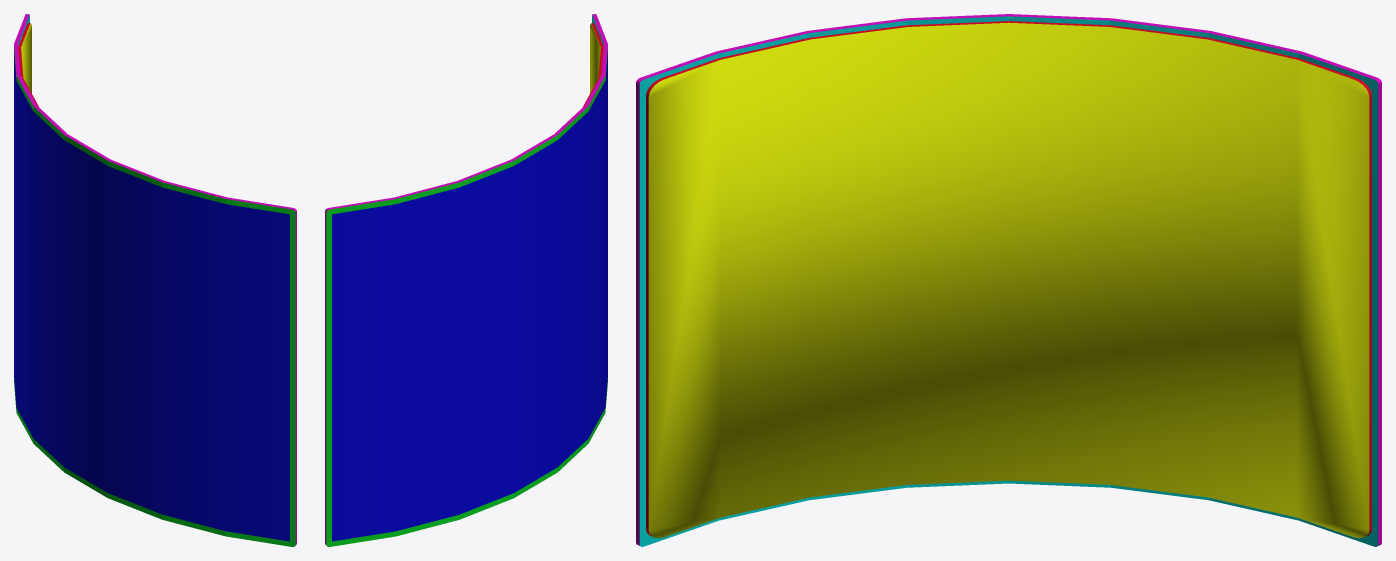
The picture shows the model from 3 angles, left to right: view 1: azimuth 30°, elevation 25°; view 2: azimuth 150°, elevation 25°; view 3: azimuth 270°, elevation 25°; orthographic projection. The views are drawn at different scales.
Visible parts, largest first — view 1: Cylinder; view 2: Cylinder; view 3: Cylinder.
Boxes of the visible parts, x1=… form: Cylinder: x1=14, y1=14, x2=296, y2=546; Cylinder: x1=325, y1=14, x2=607, y2=546; Cylinder: x1=636, y1=14, x2=1381, y2=546.
Bounding box in the file's own units: 0.5692 × 1.85 × 2.68.
